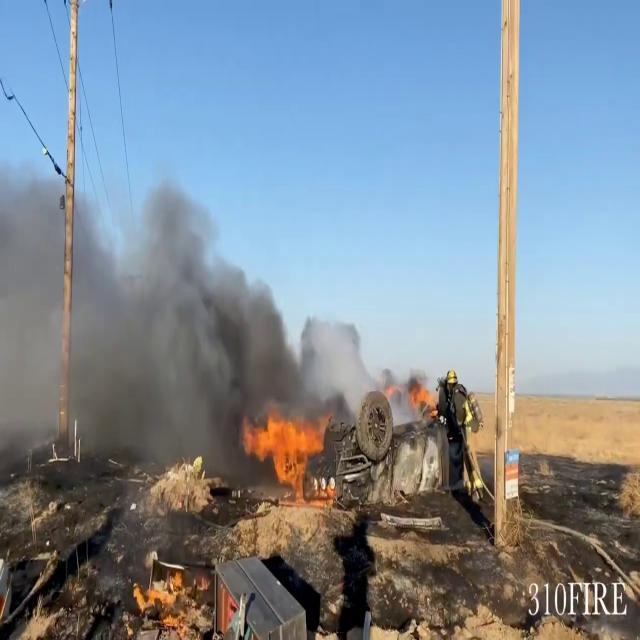Fire: (244, 406, 334, 490)
Smoke: (0, 147, 361, 483)
